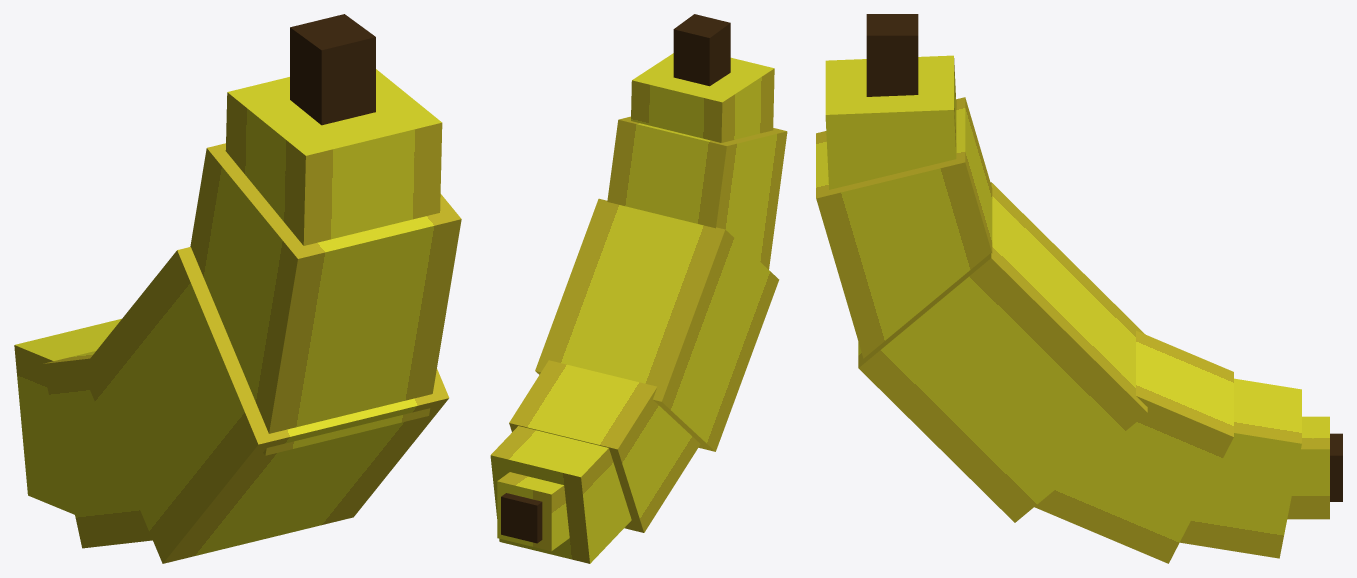
File: banana.fbx
3 renders of one model, left to right at view 1: azimuth 30°, elevation 25°; view 2: azimuth 150°, elevation 25°; view 3: azimuth 270°, elevation 25°, orthographic. The views are drawn at different scales.
Parts seen in each view (by area): view 1: mesh_2, mesh_4, mesh_6, mesh, mesh_5, mesh_1; view 2: mesh_2, mesh_4, mesh, mesh_1, mesh_6, mesh_5, mesh_3, mesh_7; view 3: mesh_2, mesh_4, mesh, mesh_1, mesh_6, mesh_5, mesh_3, mesh_7.
Boxes of the visible parts, <box> form: mesh_2: <box>81,247,449,563</box>; mesh_4: <box>190,143,461,455</box>; mesh_6: <box>225,69,442,245</box>; mesh: <box>42,351,152,548</box>; mesh_5: <box>290,14,375,125</box>; mesh_1: <box>14,318,121,514</box>; mesh_2: <box>535,198,779,451</box>; mesh_4: <box>607,116,787,269</box>; mesh: <box>509,360,700,532</box>; mesh_1: <box>490,426,631,563</box>; mesh_6: <box>631,53,774,142</box>; mesh_5: <box>673,14,730,86</box>; mesh_3: <box>497,472,569,551</box>; mesh_7: <box>501,493,542,543</box>; mesh_2: <box>858,182,1147,522</box>; mesh_4: <box>816,97,992,358</box>; mesh: <box>1034,330,1233,563</box>; mesh_1: <box>1180,378,1301,558</box>; mesh_6: <box>825,55,956,189</box>; mesh_5: <box>866,14,918,96</box>; mesh_3: <box>1287,416,1329,519</box>; mesh_7: <box>1330,433,1342,501</box>.
Bounding box in the file's own units: 43.75 × 136 × 128.
Materials: 2 (2 with a texture image).
